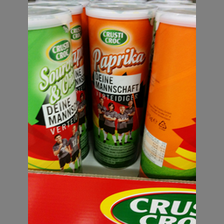chips: (86, 3, 157, 171), (138, 10, 195, 179), (29, 7, 84, 172)
